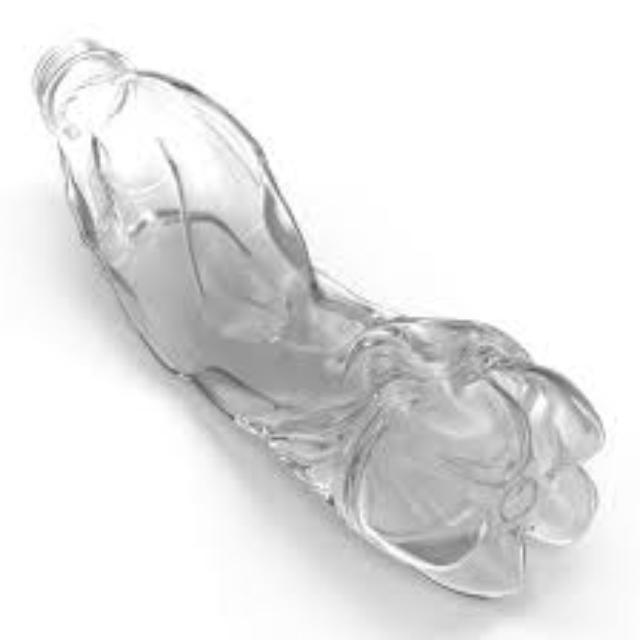plastic: (31, 40, 597, 591)
